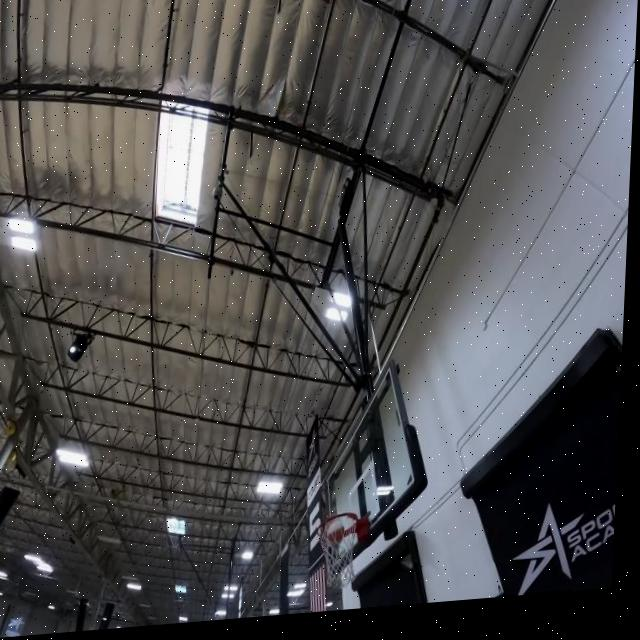hoop: (307, 505, 380, 597)
